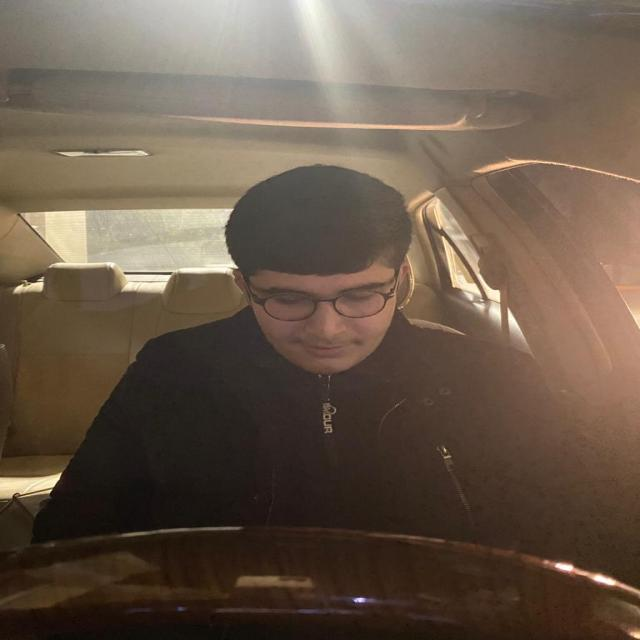drowsy: (217, 210, 437, 382)
